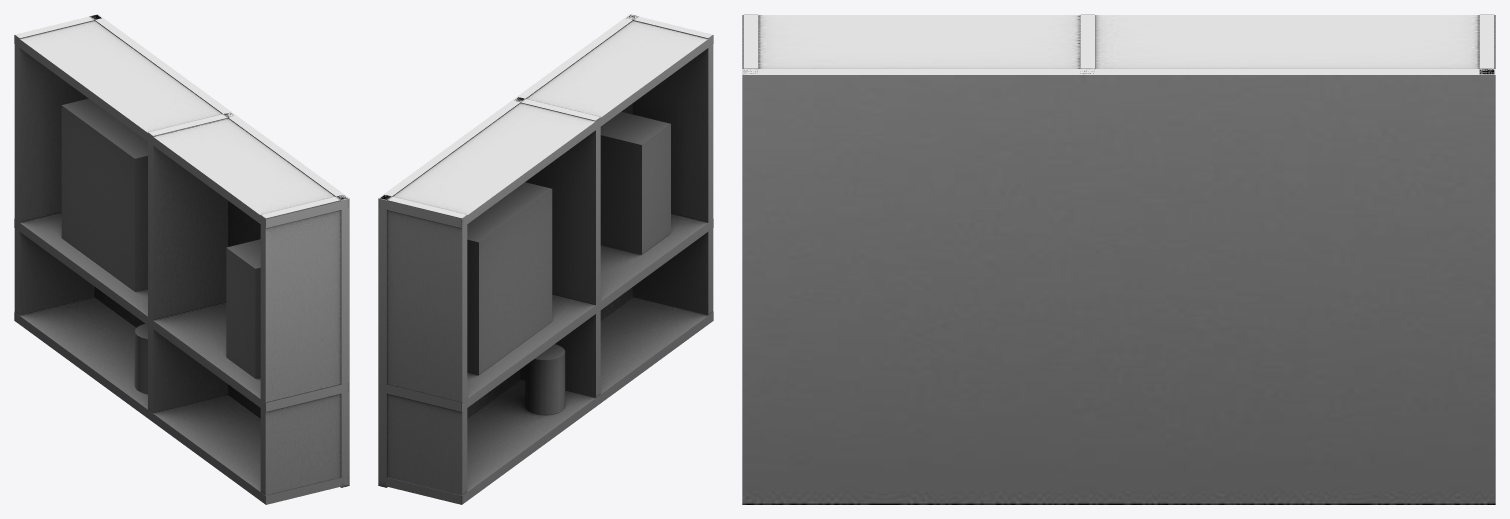
File: Shelf1.fbx
The picture shows the model from 3 angles, left to right: view 1: azimuth 30°, elevation 25°; view 2: azimuth 150°, elevation 25°; view 3: azimuth 270°, elevation 25°; orthographic projection. The views are drawn at different scales.
Visible parts, largest first — view 1: pCube8, pCube3, pCube9, pCube4, pCube11, pCube6, pCube5, pCube7, pCube10, pCylinder1; view 2: pCube6, pCube3, pCube4, pCube11, pCube8, pCube9, pCube10, pCube5, pCube7, pCylinder1; view 3: pCube7, pCube3, pCube6, pCube8, pCube9.
Boxes of the visible parts, bbox=[...] form: pCube8: bbox=[260, 195, 347, 495]; pCube3: bbox=[14, 20, 348, 228]; pCube9: bbox=[148, 113, 232, 412]; pCube4: bbox=[14, 297, 348, 504]; pCube11: bbox=[61, 98, 147, 291]; pCube6: bbox=[14, 15, 101, 315]; pCube5: bbox=[14, 212, 348, 411]; pCube7: bbox=[89, 14, 349, 487]; pCube10: bbox=[226, 239, 260, 378]; pCylinder1: bbox=[134, 323, 147, 393]; pCube6: bbox=[380, 195, 467, 495]; pCube3: bbox=[379, 20, 713, 228]; pCube4: bbox=[379, 297, 713, 504]; pCube11: bbox=[467, 182, 552, 375]; pCube8: bbox=[626, 15, 713, 315]; pCube9: bbox=[514, 97, 600, 397]; pCube10: bbox=[600, 111, 670, 254]; pCube5: bbox=[379, 213, 713, 411]; pCube7: bbox=[378, 14, 638, 487]; pCylinder1: bbox=[525, 344, 565, 414]; pCube7: bbox=[742, 69, 1495, 504]; pCube3: bbox=[742, 15, 1495, 68]; pCube6: bbox=[1479, 14, 1494, 74]; pCube8: bbox=[743, 14, 758, 73]; pCube9: bbox=[1080, 14, 1094, 73].
Bounding box in the file's own units: 50.32 × 165 × 262.
10 materials, 10 textured.
